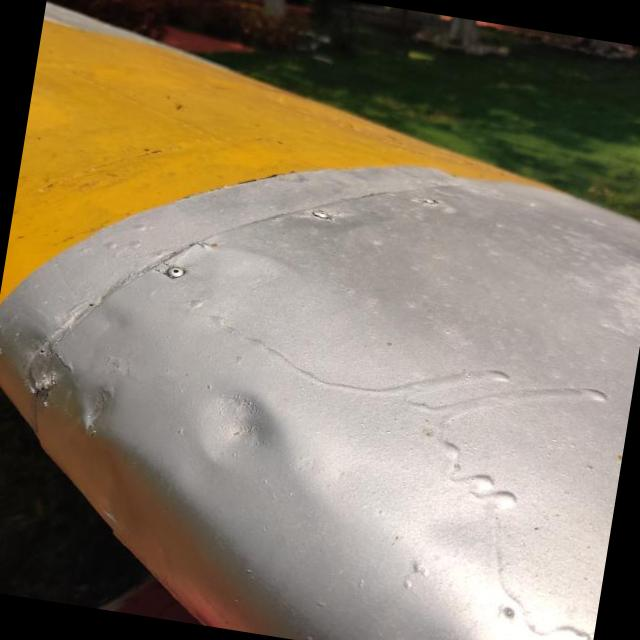Dent: (163, 355, 309, 508), (42, 370, 116, 436)
